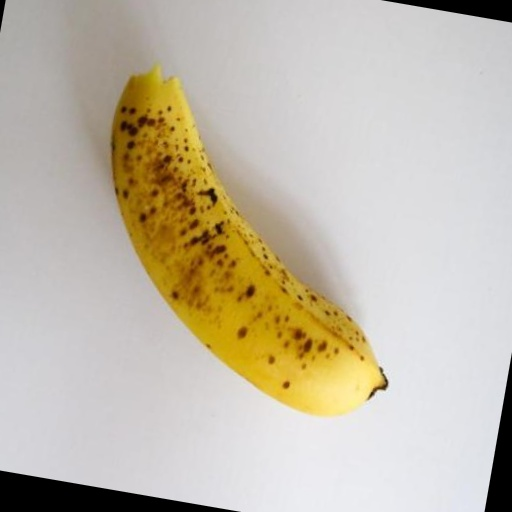fruit: (112, 66, 387, 416)
